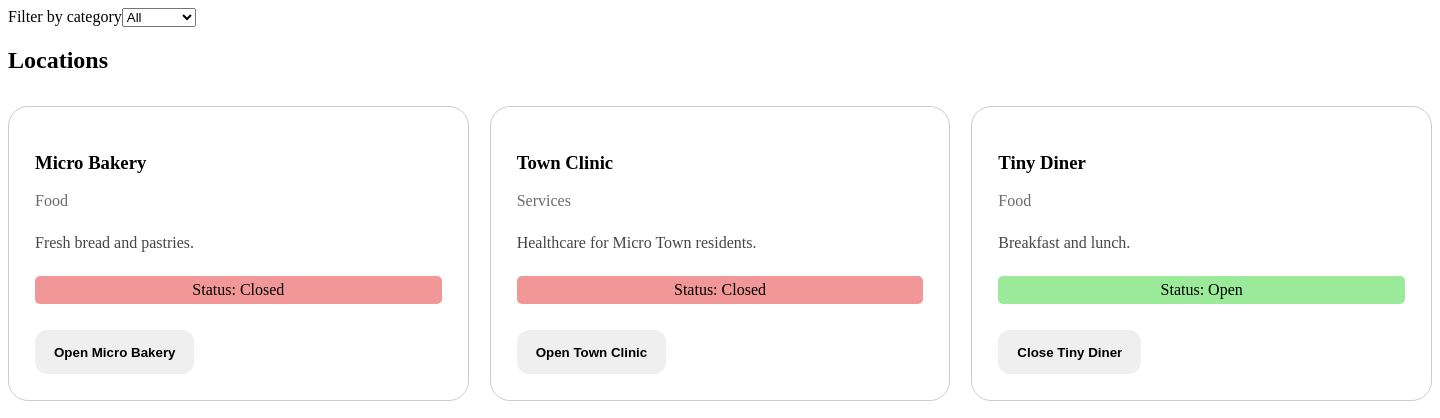
Test case: LocationList › toggles a location between open and closed
The image size is (1440, 418).
Expected: the element "Micro Bakery" is shown, [8,106,469,401]
Expected: the text "Status: Closed" below "Fresh bread and pastries." is shown, [35,276,442,304]
What coordinates should you click on to do the following:
click the button "Open Micro Bakery"
I would click on:
 (115, 352)
Its box is [35,330,194,374].
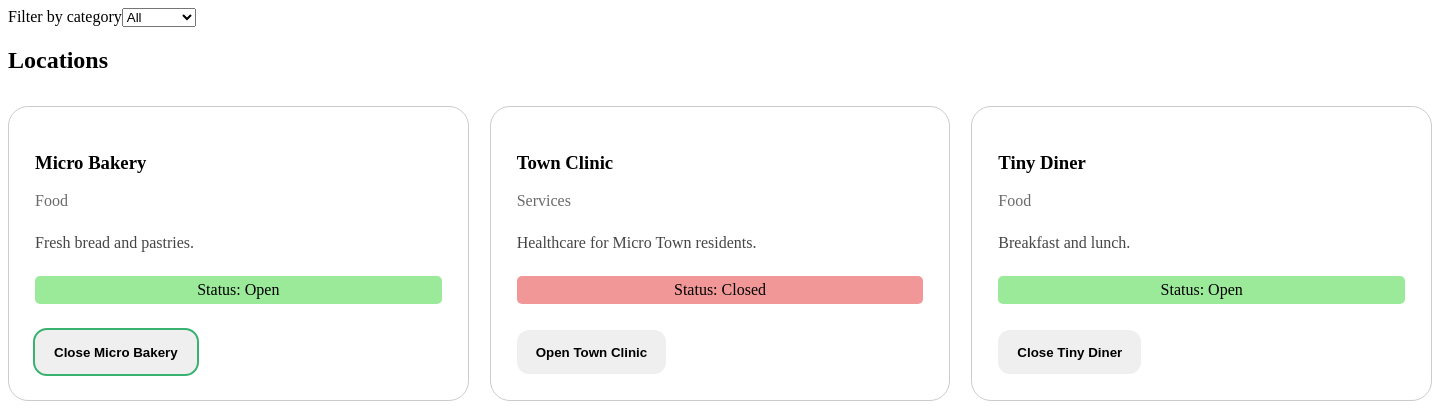
Now the text "Status: Open" below "Fresh bread and pastries." is shown, box [35,276,442,304]
Now the button "Close Micro Bakery" is shown, box [35,330,197,374]
Now the button "Open Micro Bakery" is gone
